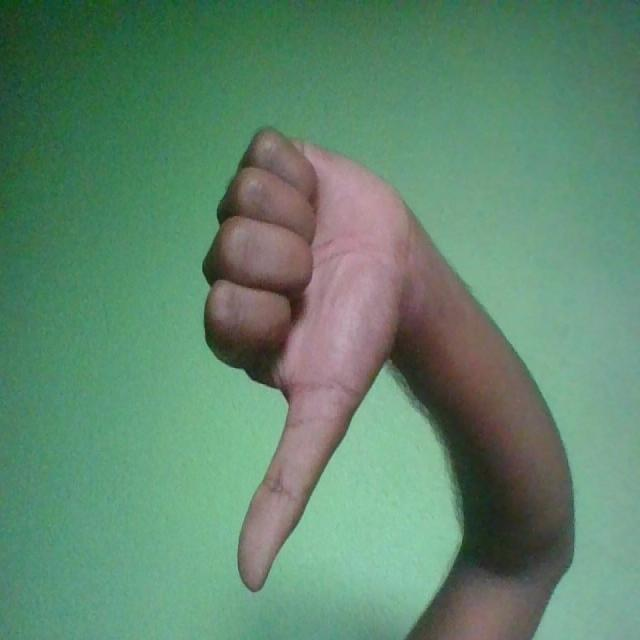Dislike: (203, 128, 414, 594)
